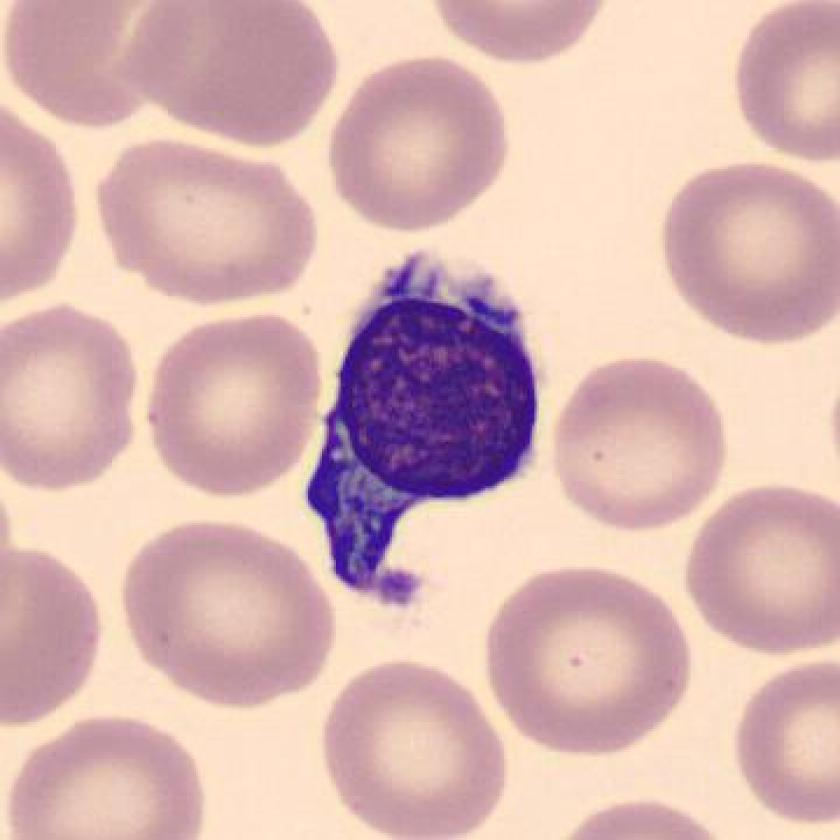lymphocyte: (291, 247, 557, 617)
